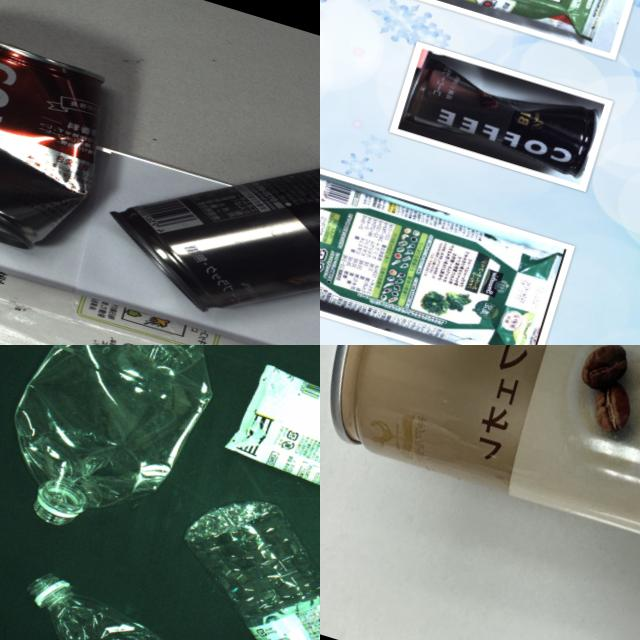Aluminium Foil: (320, 153, 567, 345), (0, 219, 320, 345), (221, 354, 320, 548), (320, 0, 629, 44)
Can: (320, 345, 640, 572), (88, 69, 320, 345), (0, 8, 124, 260), (396, 44, 606, 181)
Transparent Plastic Bottle: (0, 345, 240, 562), (145, 479, 320, 640), (0, 558, 201, 640)
